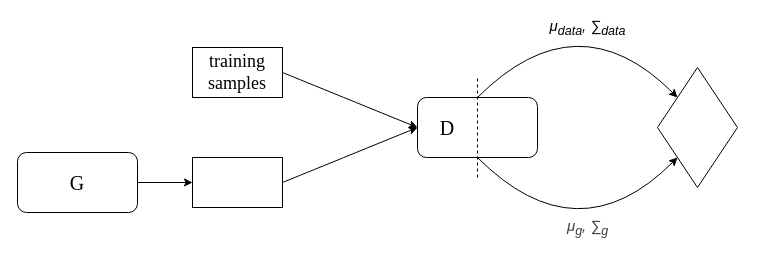
This 760x256 diagram has some shape labels left out. The shapes that lost their labels are listed below. From the top down, each one's box as (x1, y1, x2, y2) in pixels, then its label:
(656, 66, 738, 188): FID
(192, 156, 282, 208): generate samples
